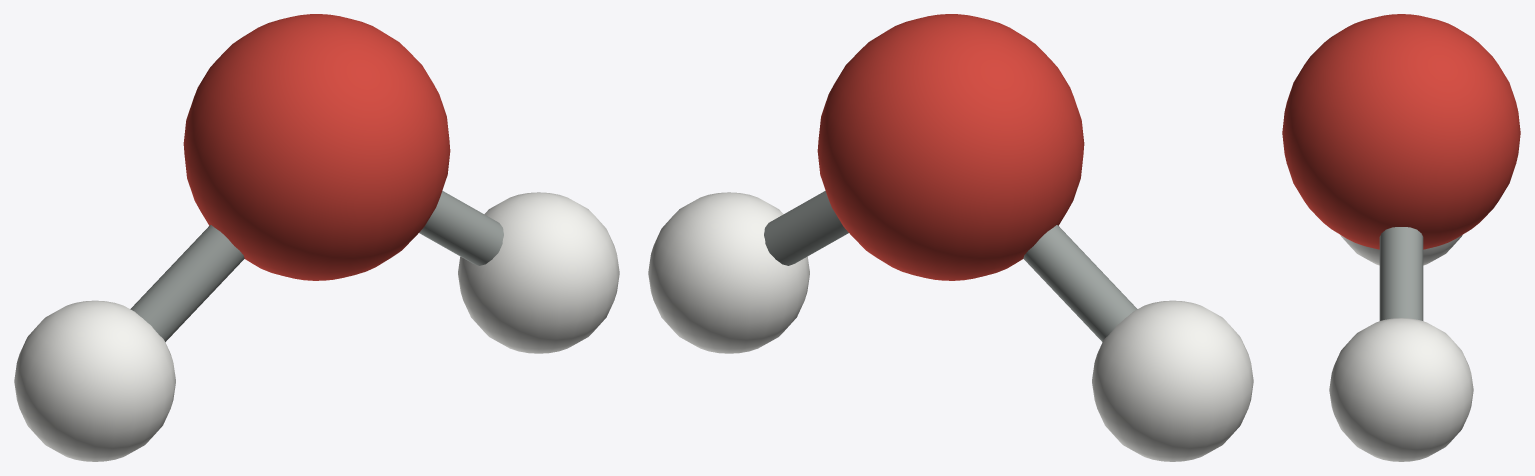
The model's file is phan-tu-nuoc.v1.glb.
The picture shows the model from 3 angles, left to right: view 1: azimuth 30°, elevation 25°; view 2: azimuth 150°, elevation 25°; view 3: azimuth 270°, elevation 25°; orthographic projection. The views are drawn at different scales.
Parts seen in each view (by area): view 1: nguyen_tu_O, nguyen_tu_H_1, nguyen_tu_H_2, lien_ket_1, lien_ket_2; view 2: nguyen_tu_O, nguyen_tu_H_1, nguyen_tu_H_2, lien_ket_1, lien_ket_2; view 3: nguyen_tu_O, nguyen_tu_H_2, lien_ket_2, nguyen_tu_H_1.
Part boxes in pixels (bbox=[...]): nguyen_tu_O: bbox=[183, 14, 450, 280]; nguyen_tu_H_1: bbox=[14, 300, 175, 461]; nguyen_tu_H_2: bbox=[458, 192, 619, 353]; lien_ket_1: bbox=[130, 225, 244, 341]; lien_ket_2: bbox=[419, 191, 503, 265]; nguyen_tu_O: bbox=[817, 14, 1084, 280]; nguyen_tu_H_1: bbox=[1092, 300, 1253, 461]; nguyen_tu_H_2: bbox=[648, 192, 809, 353]; lien_ket_1: bbox=[1023, 225, 1137, 341]; lien_ket_2: bbox=[764, 191, 848, 265]; nguyen_tu_O: bbox=[1282, 14, 1520, 249]; nguyen_tu_H_2: bbox=[1329, 318, 1473, 461]; lien_ket_2: bbox=[1379, 227, 1423, 320]; nguyen_tu_H_1: bbox=[1340, 235, 1462, 265].
Bounding box in the file's own units: 3.33 × 2.04 × 1.32.
